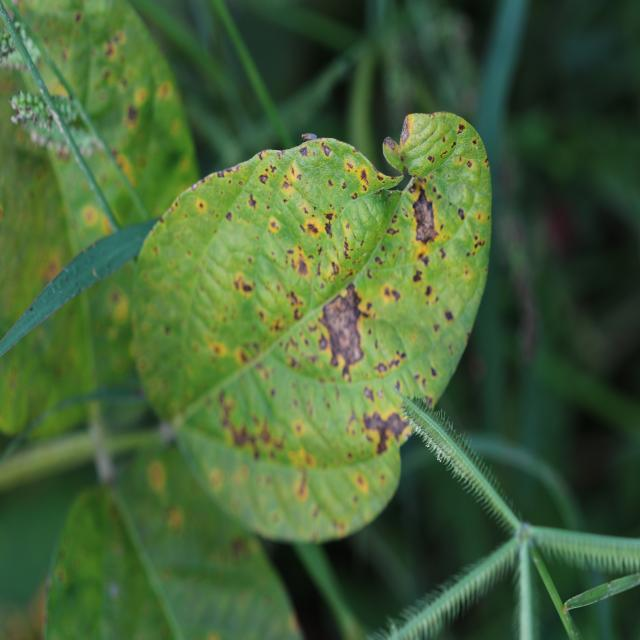Bacterial_Blight: (314, 283, 374, 367), (363, 409, 410, 455), (222, 414, 262, 457), (412, 188, 439, 242), (288, 246, 312, 278), (286, 290, 303, 313), (400, 116, 410, 145), (324, 216, 336, 239), (282, 174, 295, 191), (247, 194, 257, 210), (321, 143, 332, 157), (242, 281, 253, 293), (258, 173, 268, 185), (299, 146, 309, 158), (457, 207, 465, 221), (456, 123, 465, 135), (360, 168, 368, 181), (427, 155, 435, 164)
Soybean: (126, 112, 493, 547)
